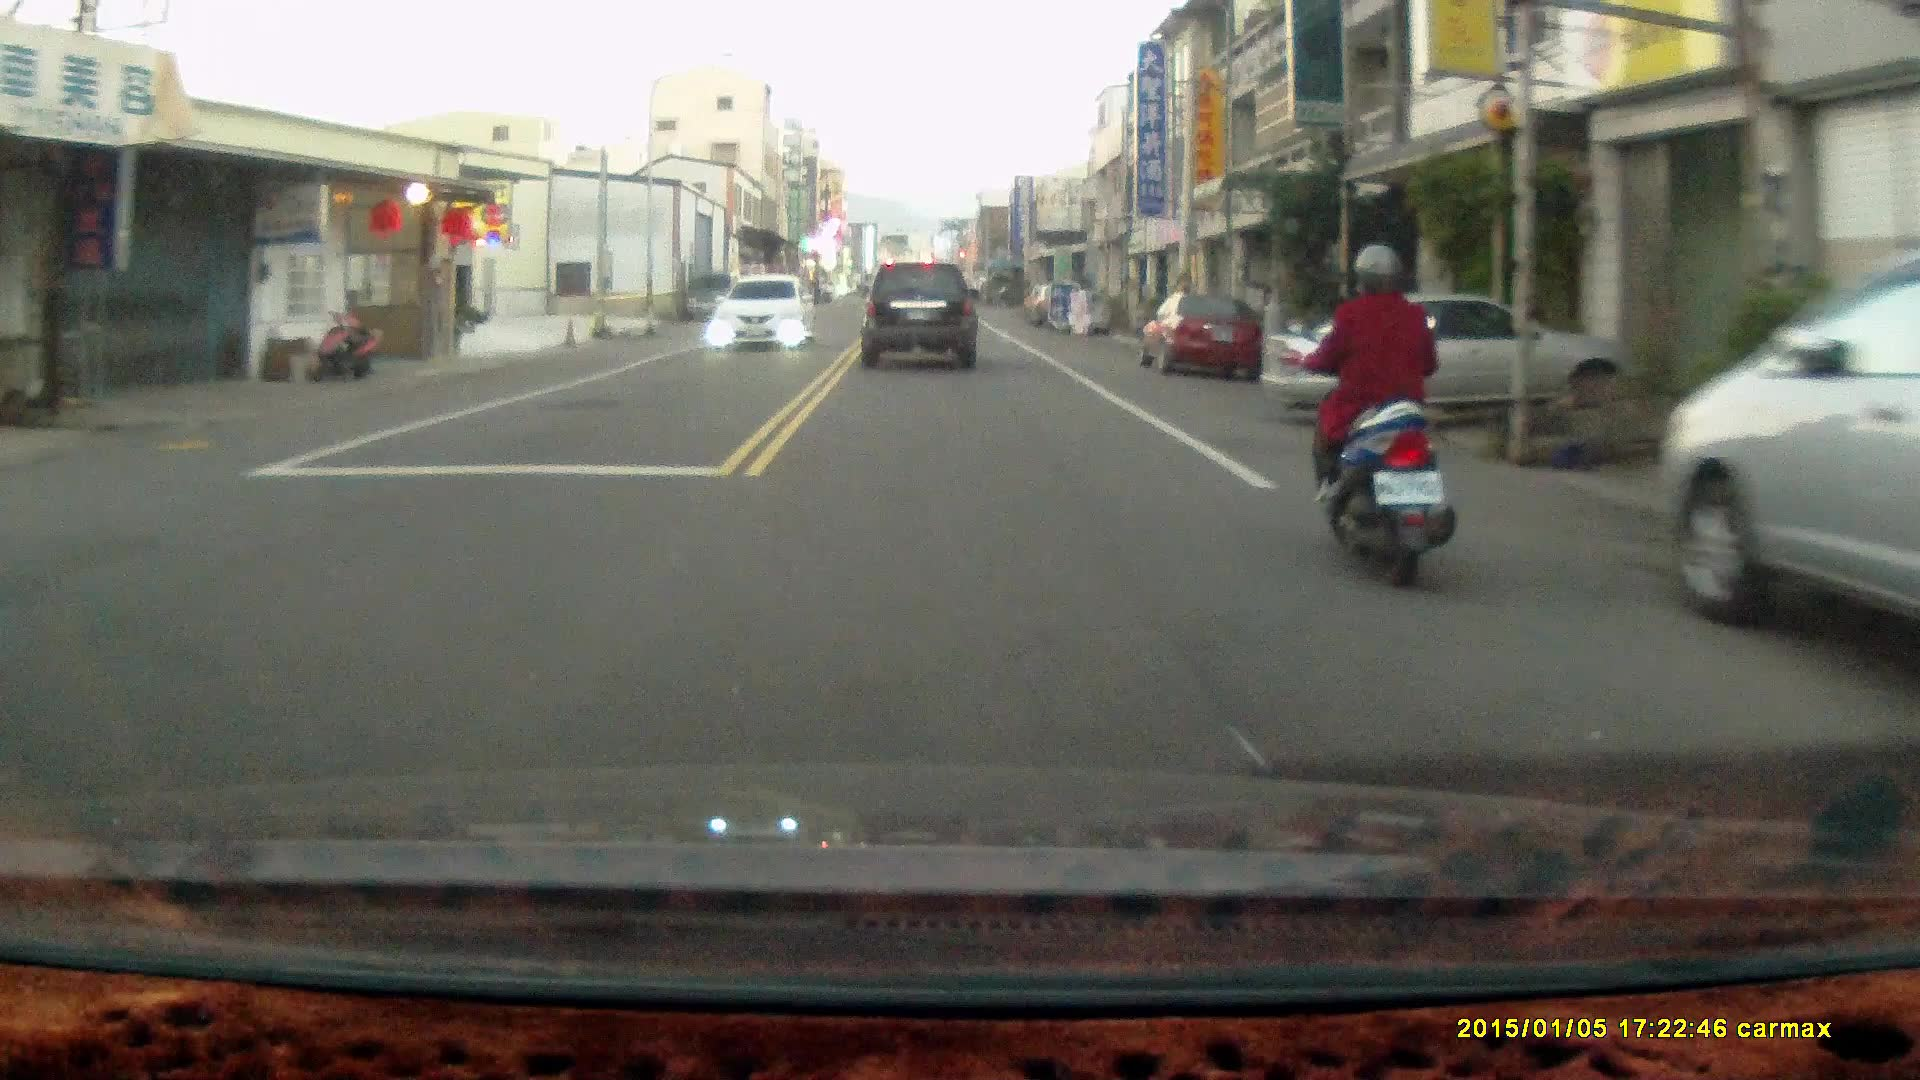rider: (1278, 245, 1456, 598)
vehicle: (1656, 249, 1920, 705), (1266, 289, 1634, 432), (859, 266, 981, 377), (1137, 290, 1266, 382), (708, 273, 817, 351), (681, 272, 746, 322)
